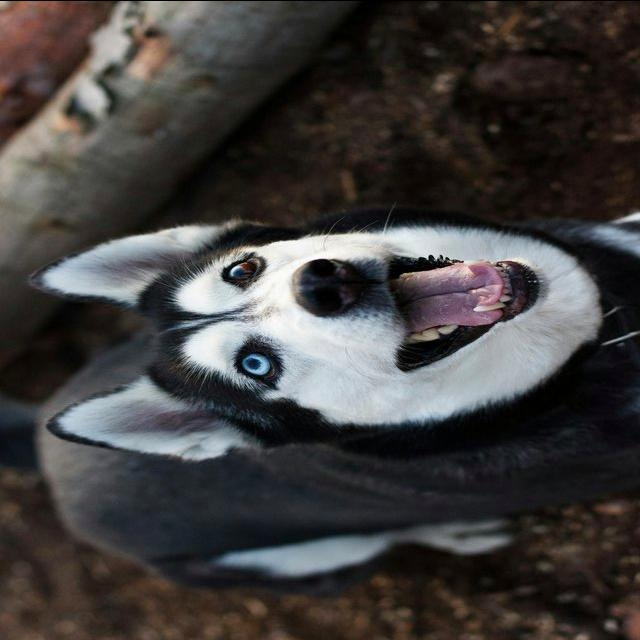husky: (25, 205, 638, 599)
